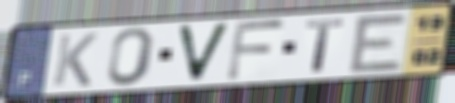0: (106, 26, 158, 88)
E: (347, 13, 412, 75)
F: (224, 18, 289, 83)
K: (49, 32, 100, 88)
T: (302, 17, 348, 74)
V: (174, 21, 234, 84)
